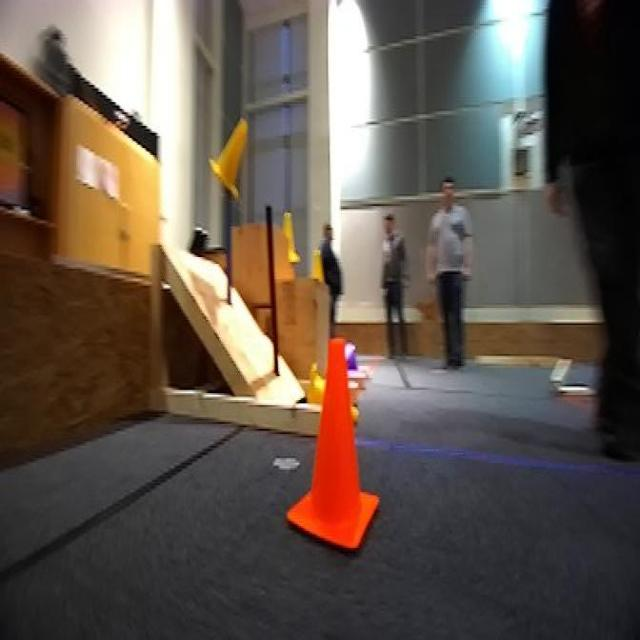frc_cone: (202, 99, 264, 199), (276, 209, 299, 269), (308, 240, 332, 284), (303, 362, 328, 403)
frc_cube: (344, 339, 361, 366)
